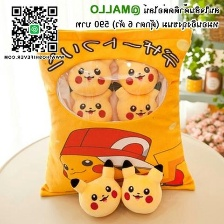snack: (29, 18, 202, 224)
